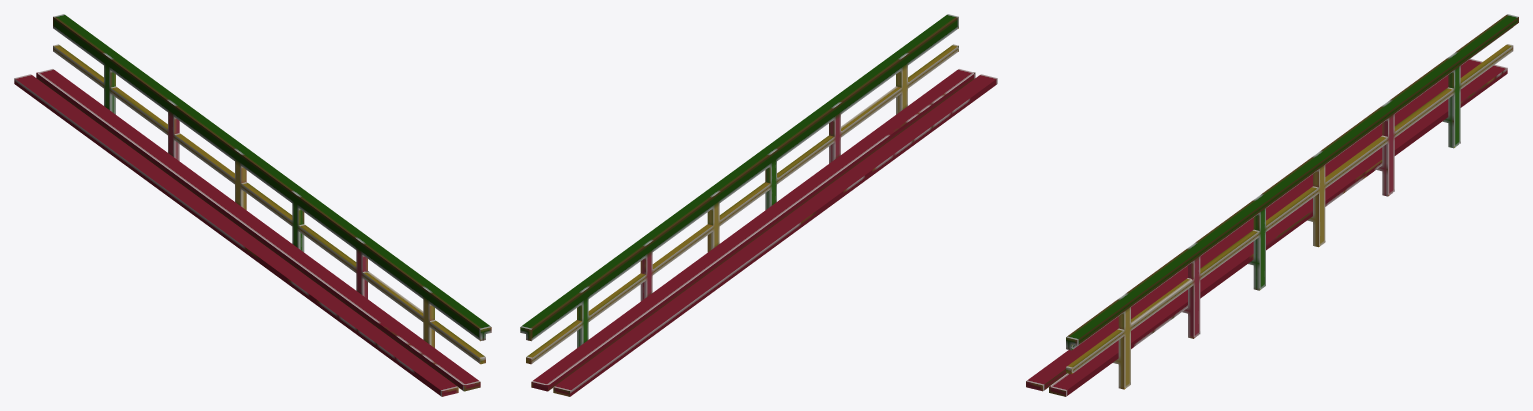
The model's file is BancosColor.fbx.
3 renders of one model, left to right at view 1: azimuth 30°, elevation 25°; view 2: azimuth 150°, elevation 25°; view 3: azimuth 330°, elevation 25°, orthographic. The views are drawn at different scales.
Visible parts, largest first — view 1: Trapiches-3; view 2: Trapiches-3; view 3: Trapiches-3.
Boxes of the visible parts, box(x1,y1,x2,y2) form: Trapiches-3: box(14, 14, 491, 396); Trapiches-3: box(520, 14, 997, 396); Trapiches-3: box(1026, 14, 1518, 396).
Size of the model in its own units: 90 by 150 by 1340.
Materials: 1 (1 with a texture image).
